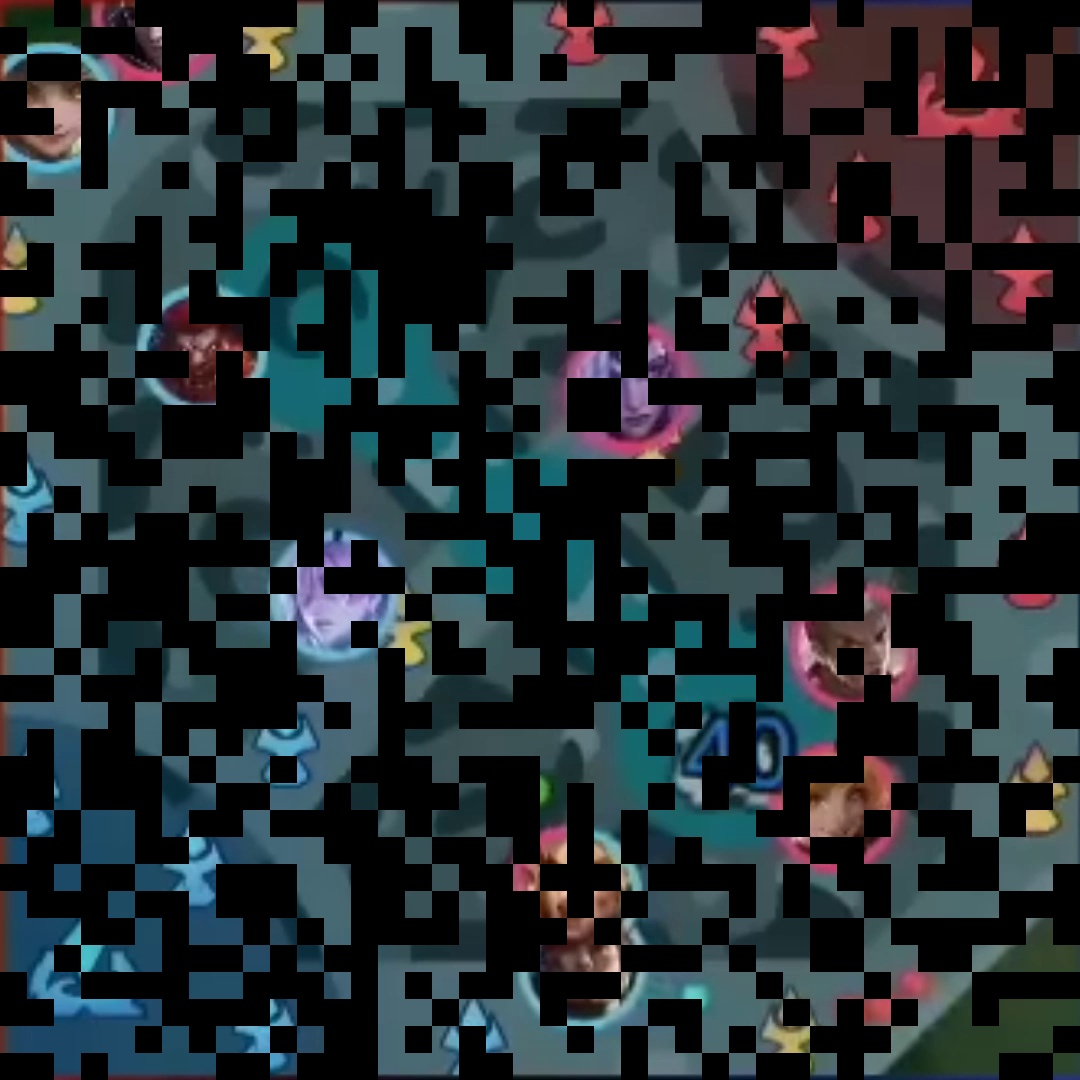Chou: (811, 600, 894, 699)
Claude: (118, 2, 204, 61)
Fanny: (797, 760, 875, 853)
Lapu-Lapu: (542, 946, 621, 1007)
Masha: (530, 842, 614, 937)
Minotaur: (157, 308, 252, 400)
Novaria: (289, 547, 380, 650)
Valentina: (586, 342, 682, 436)
Wanwan: (8, 60, 98, 153)
